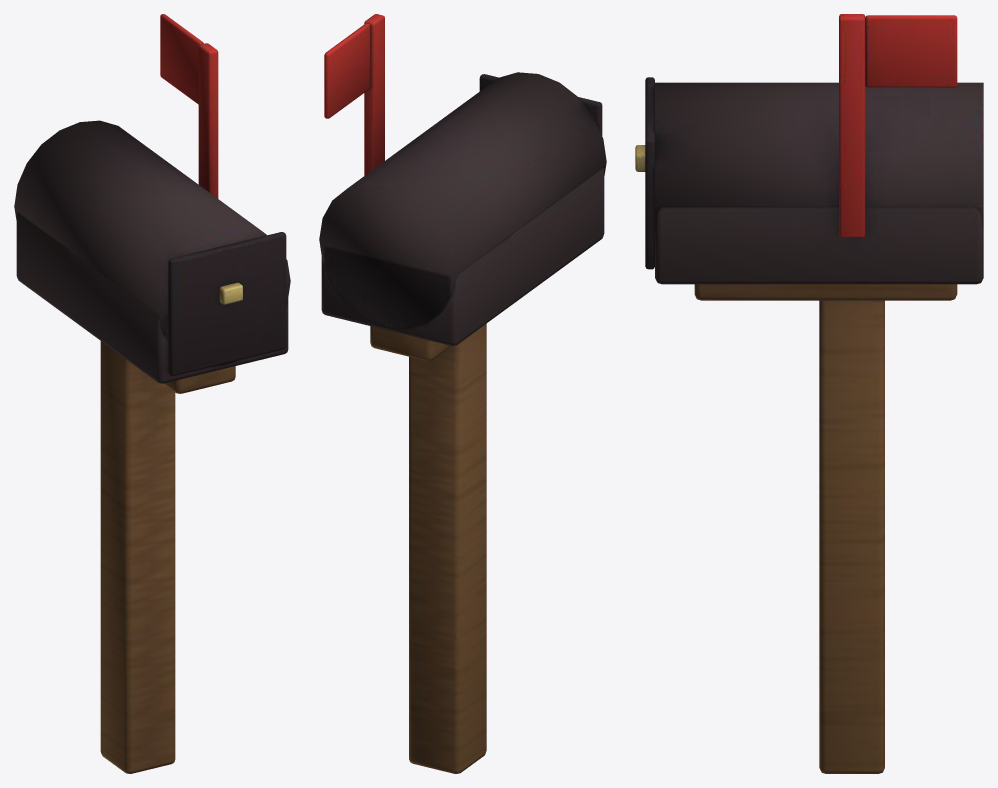
The model's file is mailbox_black.glb.
The picture shows the model from 3 angles, left to right: view 1: azimuth 30°, elevation 25°; view 2: azimuth 150°, elevation 25°; view 3: azimuth 270°, elevation 25°; orthographic projection. The views are drawn at different scales.
Visible parts, largest first — view 1: mailbox_black; view 2: mailbox_black; view 3: mailbox_black.
Part boxes in pixels (<box>): mailbox_black: <box>14,14,290,773</box>; mailbox_black: <box>319,14,606,773</box>; mailbox_black: <box>635,14,983,773</box>.
Bounding box in the file's own units: 0.28 × 1.32 × 0.53.
Materials: 5 (5 with a texture image).
